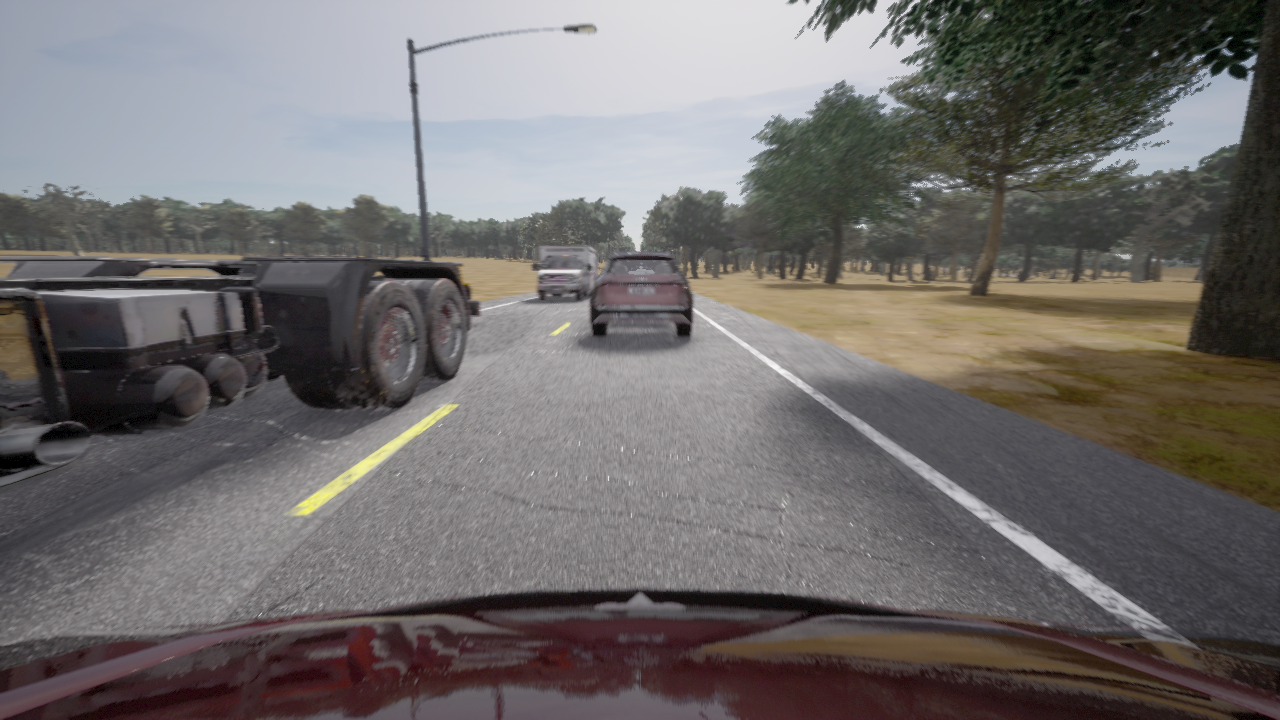cyclist: (0, 588, 1279, 719), (0, 257, 479, 492), (590, 249, 692, 336), (532, 245, 596, 300)
